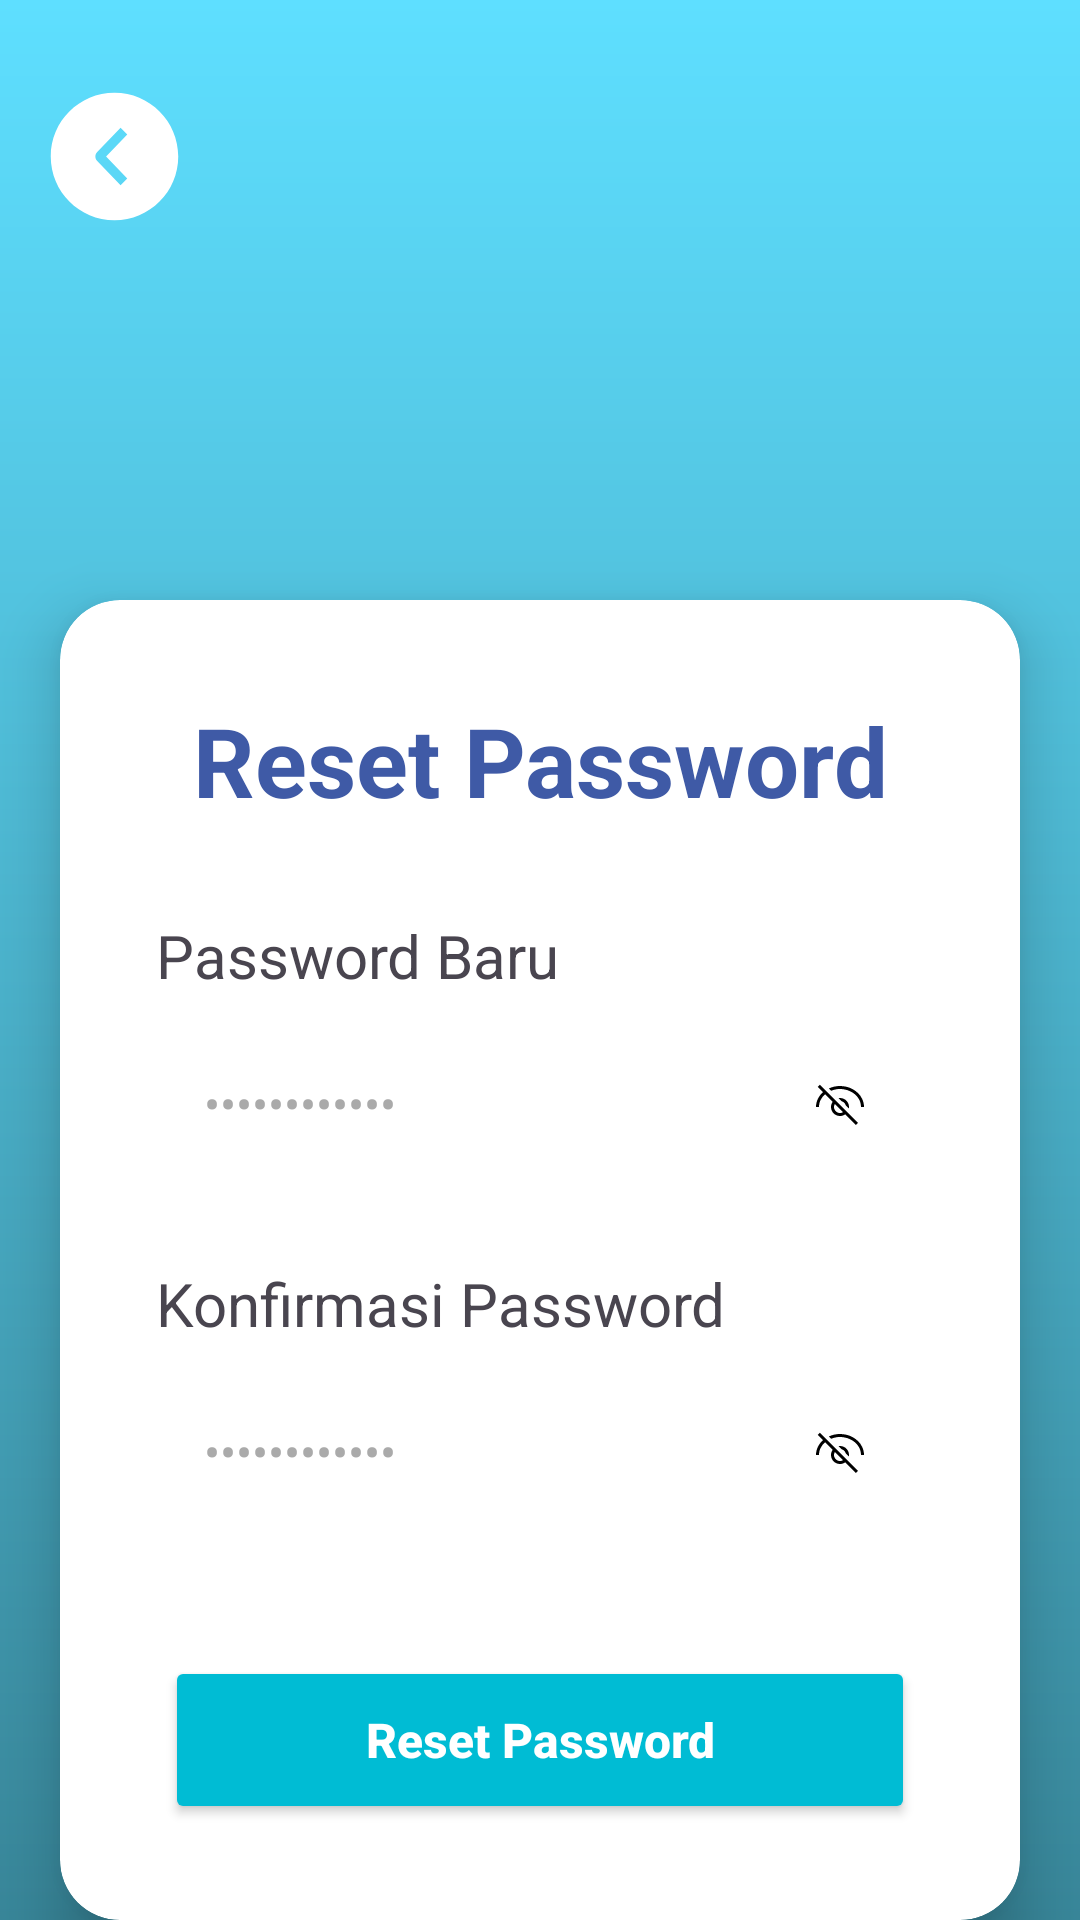

Named icons in this screenshot (1080w x 1920h) and their centers, point (x, y):
Toggle password visibility: point (840, 1105), point (840, 1453)
